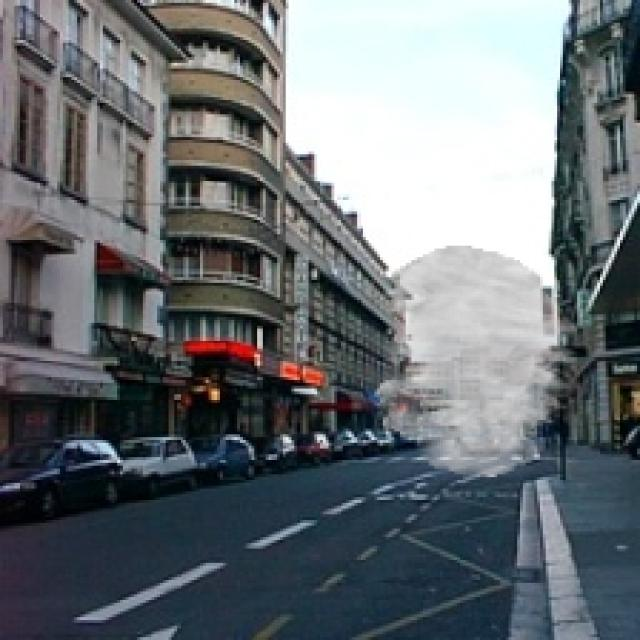smoke: (374, 246, 580, 477)
